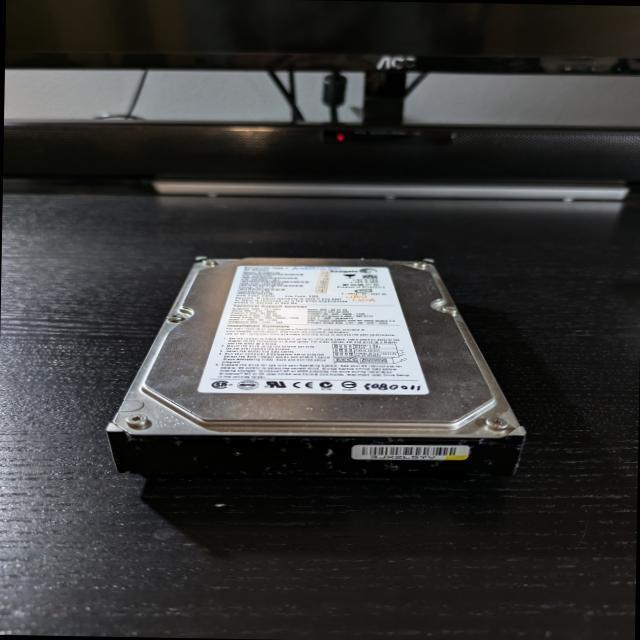DISK: (104, 252, 527, 486)
